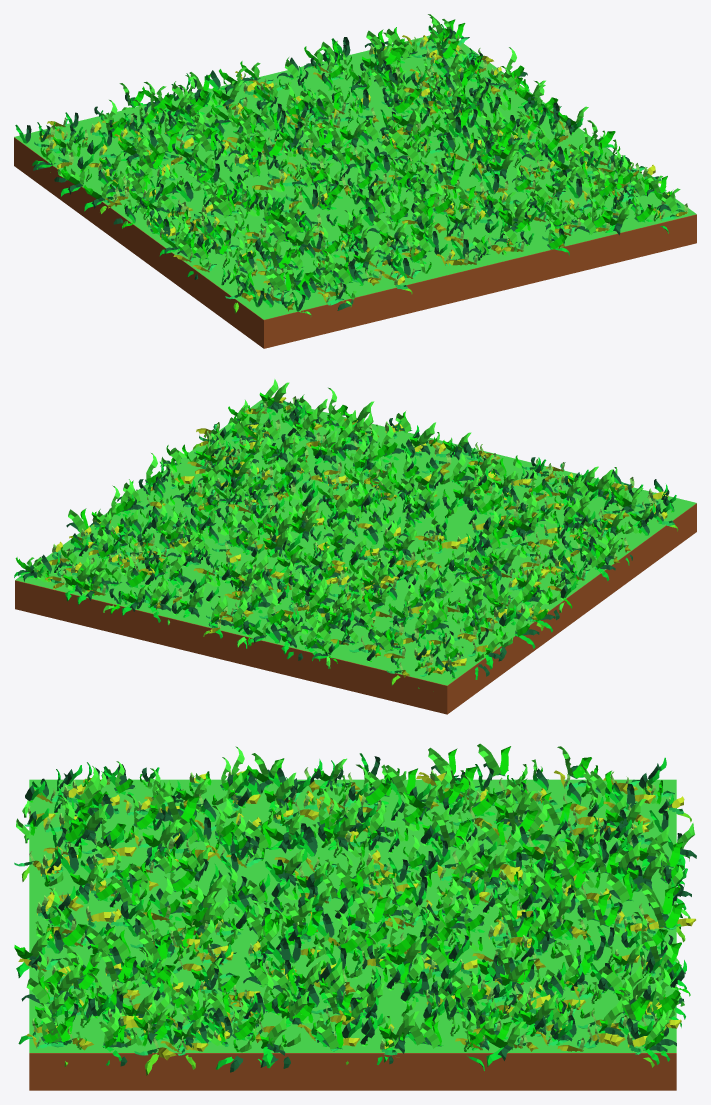
The model's file is low-polly-grass.fbx.
3 views of the same model, one above another, from view 1: azimuth 30°, elevation 25°; view 2: azimuth 150°, elevation 25°; view 3: azimuth 270°, elevation 25° (orthographic). The views are drawn at different scales.
Visible parts, largest first — view 1: Plane, Cube; view 2: Plane, Cube; view 3: Plane, Cube, Plane|Grass1|Dupli|284, Plane|Grass1|Dupli|492, Plane|Grass1|Dupli|740, Plane|Grass1|Dupli|536, Plane|Grass1|Dupli|864, Plane|Grass1|Dupli|320, Plane|Grass1|Dupli|964.
Boxes of the visible parts, left/top/right/bottom form: Plane: left=14, top=35, right=696, bottom=319; Cube: left=14, top=137, right=696, bottom=348; Plane: left=15, top=399, right=696, bottom=685; Cube: left=15, top=503, right=696, bottom=714; Plane: left=29, top=779, right=676, bottom=1052; Cube: left=29, top=1053, right=676, bottom=1090; Plane|Grass1|Dupli|284: left=484, top=1021, right=525, bottom=1066; Plane|Grass1|Dupli|492: left=260, top=1016, right=286, bottom=1067; Plane|Grass1|Dupli|740: left=379, top=1011, right=419, bottom=1062; Plane|Grass1|Dupli|536: left=645, top=894, right=684, bottom=929; Plane|Grass1|Dupli|864: left=14, top=932, right=51, bottom=977; Plane|Grass1|Dupli|320: left=477, top=743, right=510, bottom=776; Plane|Grass1|Dupli|964: left=520, top=994, right=558, bottom=1035.
Bounding box in the file's own units: 650 × 73.66 × 633.
